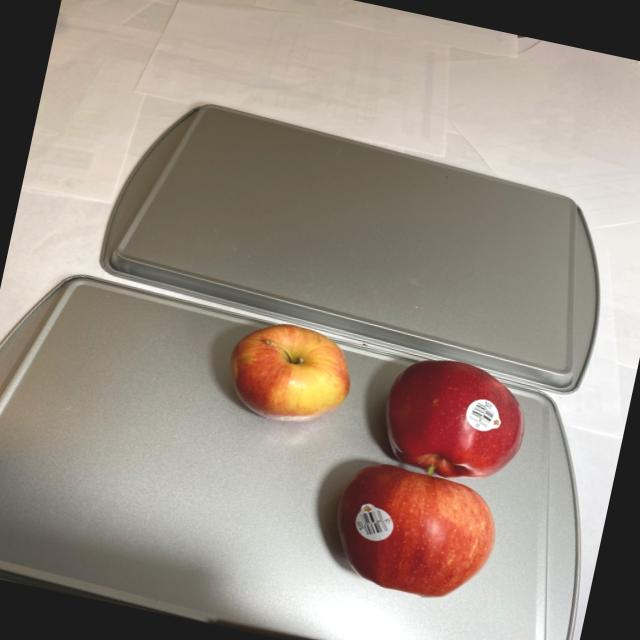apple: (186, 312, 537, 611)
